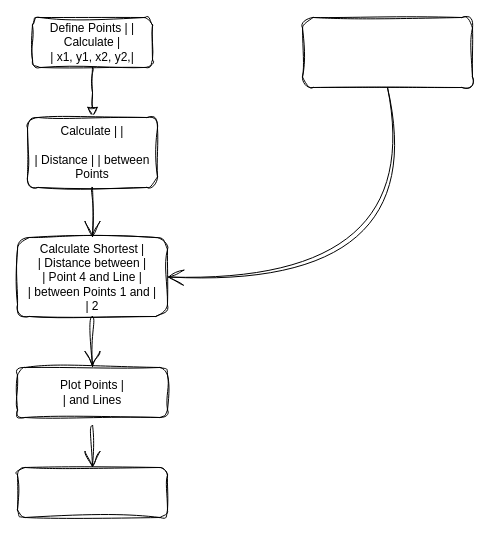
This 490x535 diagram has some shape labels left out. Each missing label, with the centre of its shape:
Calculate | | x1, y1, x2, y2, | | Distance | | x3, y3, x4, y4 | | between Points: point 387,52
Display Visualization: point 92,492
